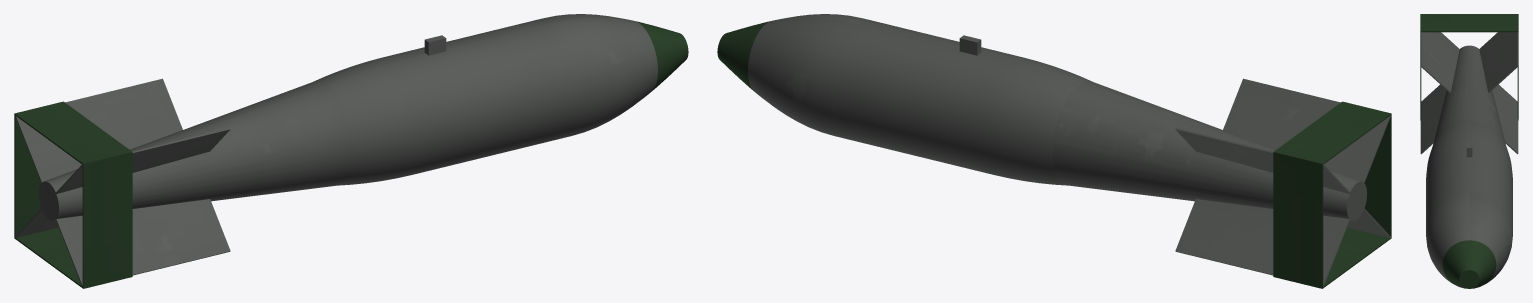
File: type98-no25.glb
3 views of the same model, side by side, from view 1: azimuth 30°, elevation 25°; view 2: azimuth 150°, elevation 25°; view 3: azimuth 270°, elevation 25° (orthographic). The views are drawn at different scales.
Visible parts, largest first — view 1: type98-no25; view 2: type98-no25; view 3: type98-no25.
Boxes of the visible parts, x1,y1,x2,y2 form: type98-no25: (14,14,688,288); type98-no25: (717,14,1391,288); type98-no25: (1420,14,1518,288).
Size of the model in its own units: 1.8 by 0.355 by 0.34.
Materials: 1 (1 with a texture image).
